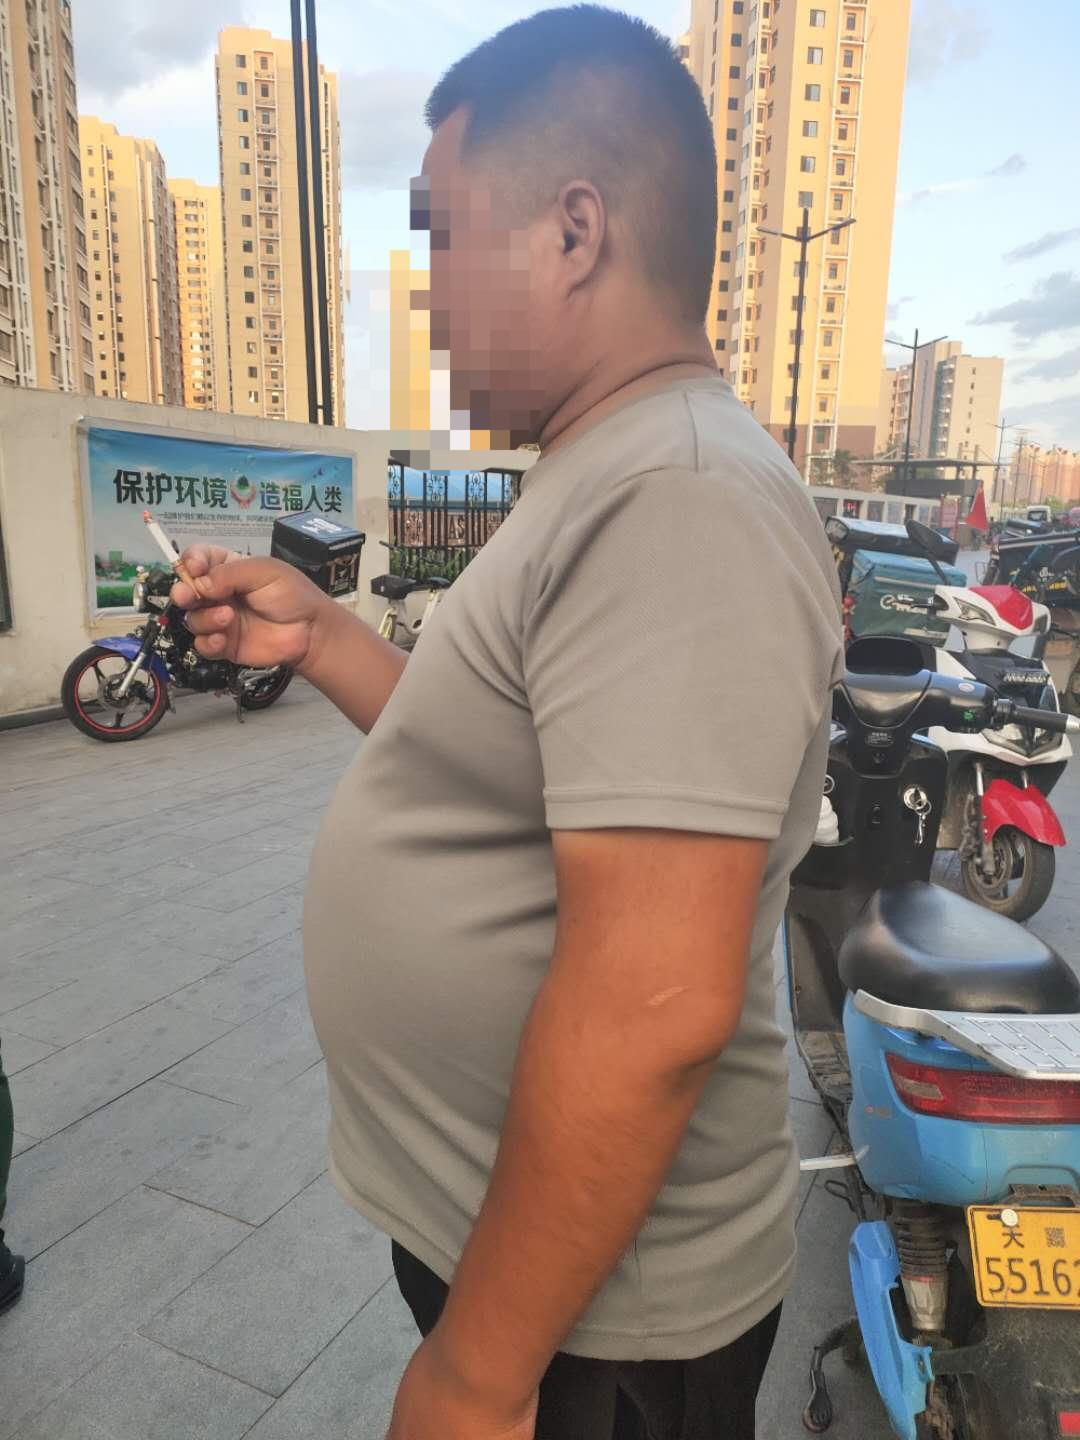smoke: (144, 506, 209, 607)
